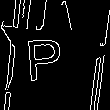P_N: (30, 30, 72, 83)
